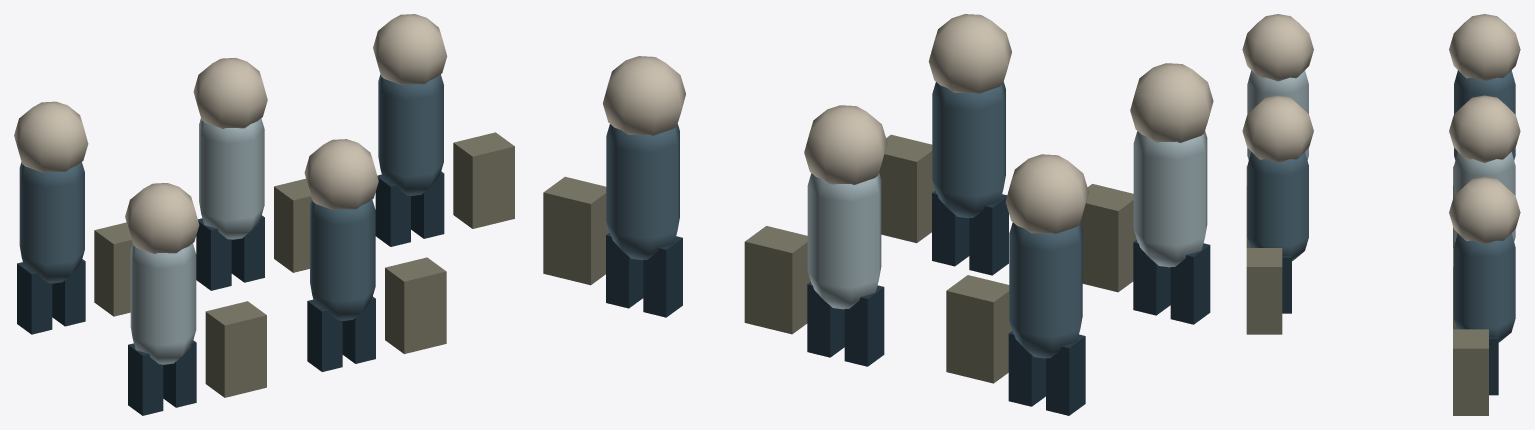
The model's file is passengers-5.glb.
3 views of the same model, side by side, from view 1: azimuth 30°, elevation 25°; view 2: azimuth 150°, elevation 25°; view 3: azimuth 270°, elevation 25° (orthographic). The views are drawn at different scales.
Visible parts, largest first — view 1: passengers-5; view 2: passengers-5; view 3: passengers-5.
Part boxes in pixels (left/top/right/bottom): passengers-5: left=14, top=14, right=514, bottom=415; passengers-5: left=543, top=14, right=1213, bottom=415; passengers-5: left=1242, top=14, right=1520, bottom=415.
Size of the model in its own units: 3.74 by 1.62 by 2.02.
